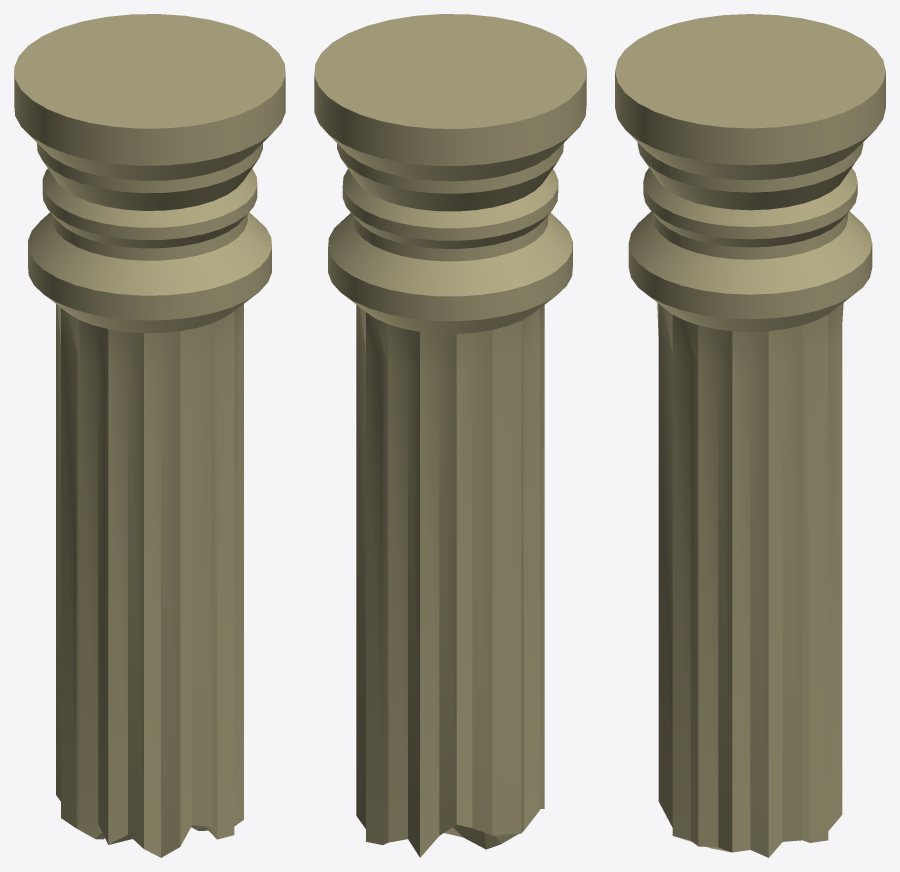
File: column_broken_top.fbx
3 views of the same model, side by side, from view 1: azimuth 30°, elevation 25°; view 2: azimuth 150°, elevation 25°; view 3: azimuth 270°, elevation 25° (orthographic).
Visible parts, largest first — view 1: Column_Broken_Top; view 2: Column_Broken_Top; view 3: Column_Broken_Top.
Part boxes in pixels (x1,y1,x2,y2): Column_Broken_Top: (14,14,285,857); Column_Broken_Top: (314,14,586,857); Column_Broken_Top: (615,14,885,857).
Size of the model in its own units: 171 by 528 by 171.
